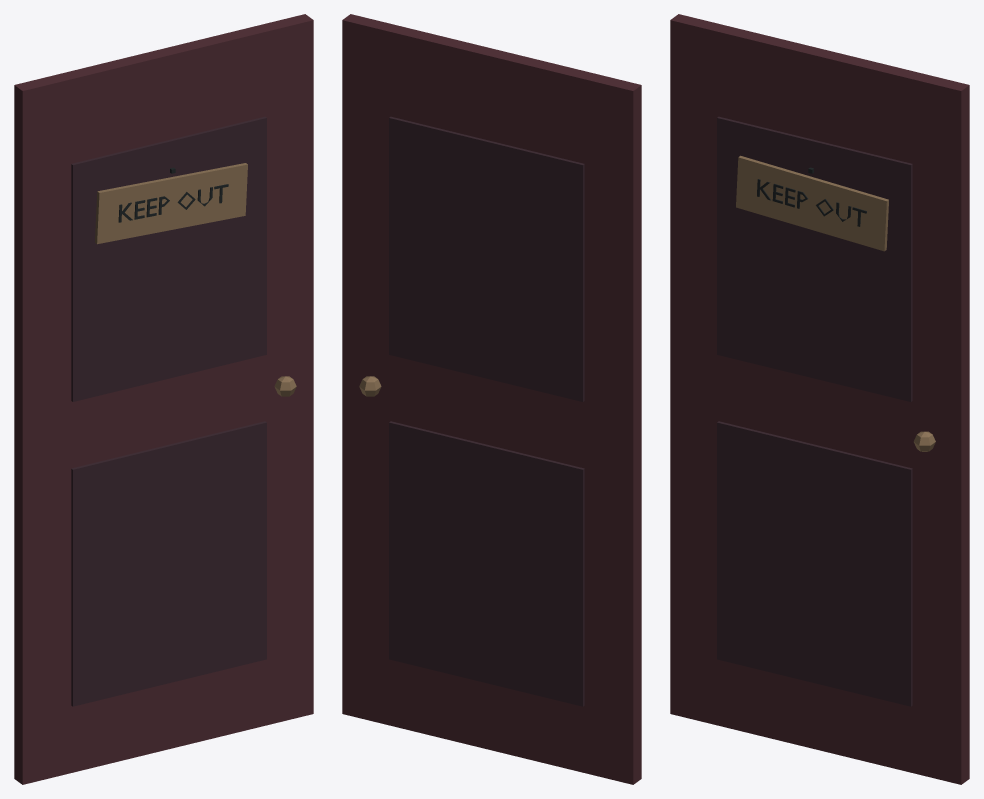
File: usa_dormitor.glb
The picture shows the model from 3 angles, left to right: view 1: azimuth 30°, elevation 25°; view 2: azimuth 150°, elevation 25°; view 3: azimuth 330°, elevation 25°; orthographic projection.
Visible parts, largest first — view 1: Usa; view 2: Usa; view 3: Usa.
Boxes of the visible parts, x1,y1,x2,y2 form: Usa: (14,14,313,784); Usa: (342,14,641,784); Usa: (670,14,969,784).
Size of the model in its own units: 0.9 by 2.05 by 0.15.
